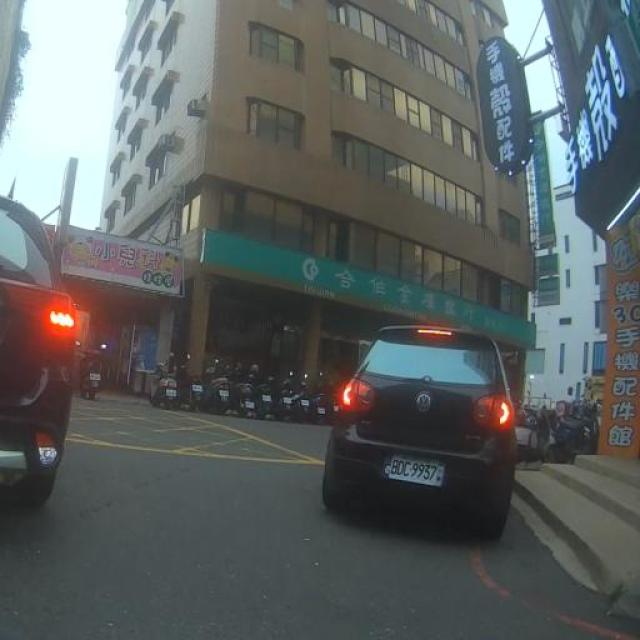Legalparking: (83, 334, 331, 424), (520, 376, 600, 470)
illegalparking: (322, 326, 515, 538), (0, 196, 74, 505)
